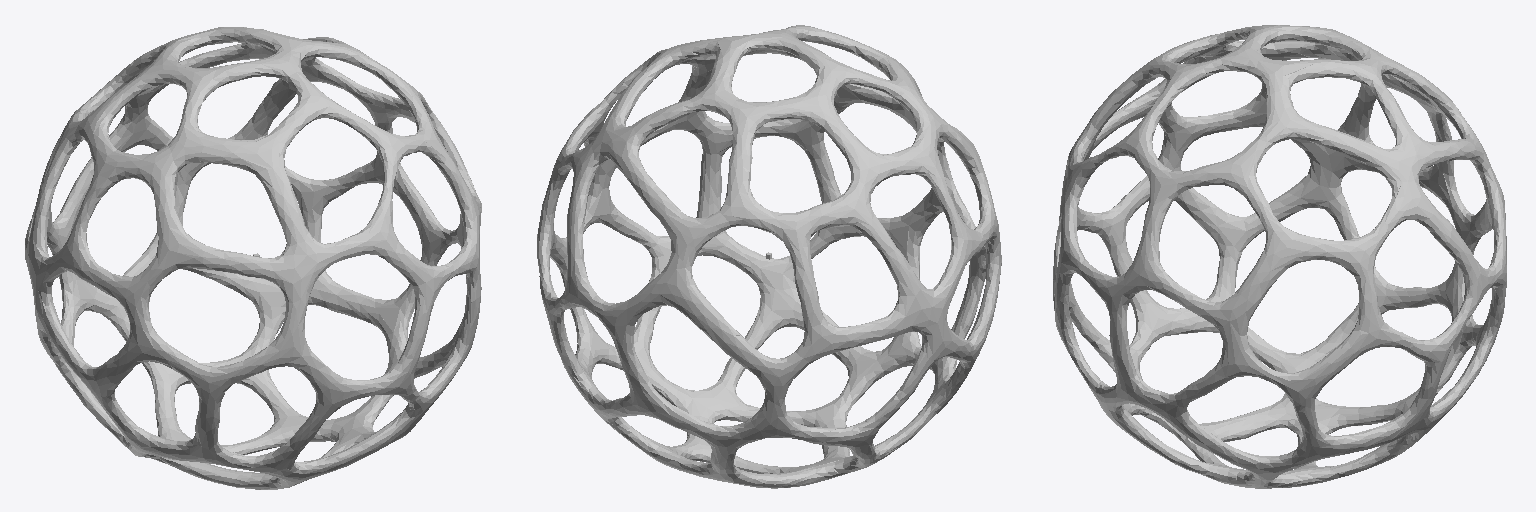
The model's file is Compressed_voronoi_sphere.obj.
3 views of the same model, side by side, from view 1: azimuth 30°, elevation 25°; view 2: azimuth 150°, elevation 25°; view 3: azimuth 270°, elevation 25° (orthographic).
Parts seen in each view (by area): view 1: voronoi_sphere; view 2: voronoi_sphere; view 3: voronoi_sphere.
Boxes of the visible parts, box(x1,y1,x2,y2) form: voronoi_sphere: box(25, 27, 481, 489); voronoi_sphere: box(537, 25, 1001, 488); voronoi_sphere: box(1053, 25, 1506, 488).
Size of the model in its own units: 180 by 181 by 179.